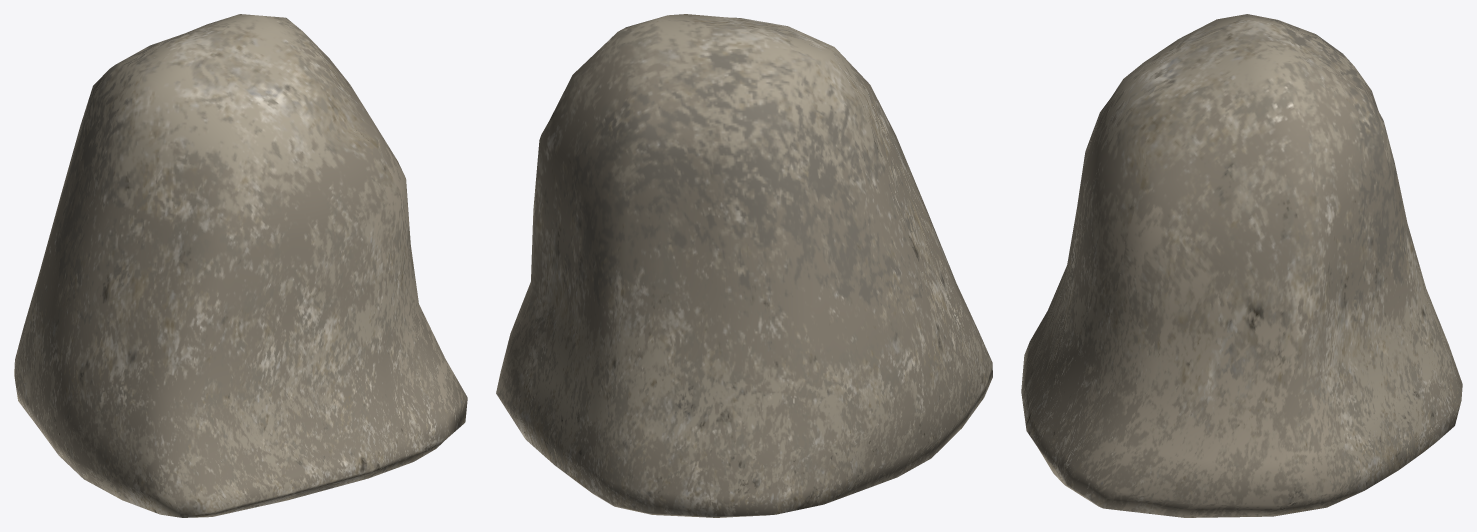
Rendered from MA_EnvArt_RockBig_01.fbx.
3 renders of one model, left to right at view 1: azimuth 30°, elevation 25°; view 2: azimuth 150°, elevation 25°; view 3: azimuth 270°, elevation 25°, orthographic. The views are drawn at different scales.
Parts seen in each view (by area): view 1: pCube3; view 2: pCube3; view 3: pCube3.
Part boxes in pixels (left/top/right/bottom): pCube3: left=14, top=14, right=467, bottom=517; pCube3: left=496, top=14, right=992, bottom=517; pCube3: left=1021, top=14, right=1462, bottom=517.
Bounding box in the file's own units: 461 × 471 × 461.
